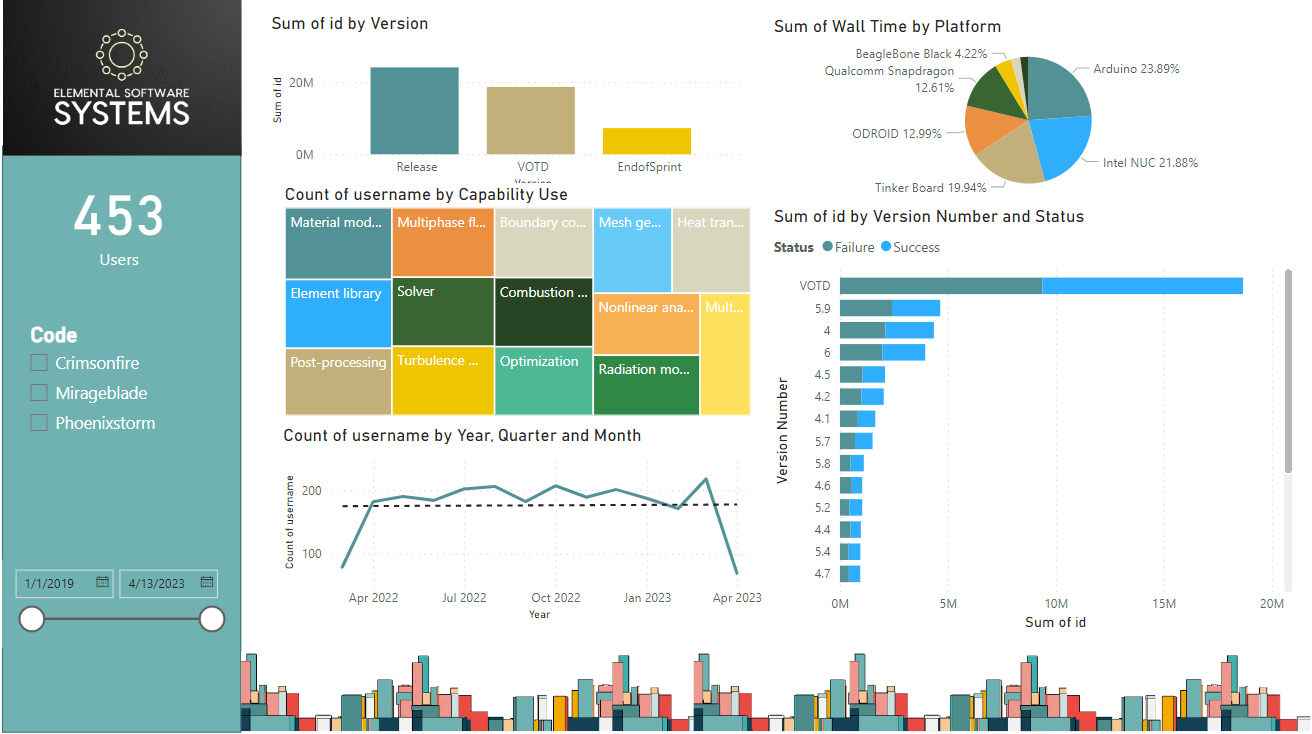

Layout of this report page (visuals, bound fields, positions):
{"tool":"powerbi","page":{"name":"Page 1","canvas":[1280,720],"ordinal":0},"visuals":[{"type":"shape","box":[5.8,146.6,232,569],"z":0},{"type":"image","box":[19.8,633,880.9,87.3],"z":1000},{"type":"image","box":[1.2,0,242,161.7],"z":2000},{"type":"image","box":[670.3,633.3,458.8,86.7],"z":3000},{"type":"image","box":[821.7,633.3,458.8,86.7],"z":4000},{"type":"columnChart","fields":{"Category":["ESS Usage.Version"],"Y":["Sum(ESS Usage.id)"]},"box":[261.2,17.3,466.9,176.8],"z":5000},{"type":"card","fields":{"Values":["Count(ESS Usage.username)"]},"box":[11.6,161.8,215,113.3],"z":6000},{"type":"slicer","fields":{"Values":["ESS Usage.Code"]},"box":[19.6,313.2,198.8,142.2],"z":7000},{"type":"slicer","fields":{"Values":["ESS Usage.Date"]},"box":[5.8,547.8,224.2,85.5],"z":8000},{"type":"treemap","fields":{"Values":["CountNonNull(ESS Usage.username)"],"Group":["ESS Usage.Capability Use"]},"box":[274.3,182.9,461.5,230.3],"z":8002},{"type":"pieChart","fields":{"Category":["ESS Usage.Platform"],"Y":["Sum(ESS Usage.Wall Time)"]},"box":[748.9,19.6,503.9,184.9],"z":8003},{"type":"lineChart","fields":{"Y":["CountNonNull(ESS Usage.username)"],"Category":["ESS Usage.Date.Variation.Date Hierarchy.Year","ESS Usage.Date.Variation.Date Hierarchy.Quarter","ESS Usage.Date.Variation.Date Hierarchy.Month","ESS Usage.Date.Variation.Date Hierarchy.Day"]},"box":[273.9,417.2,475,195.3],"z":8004},{"type":"barChart","fields":{"Category":["ESS Usage.Version Number"],"Y":["Sum(ESS Usage.id)"],"Series":["ESS Usage.Status"]},"box":[748.9,204.6,513.1,417.2],"z":8005}]}

Visuals, with their boxes in screenshot pixels (x1, y1, x2, y2), scaled from the page's 1280x720 canvas onto the 1312x734 screenshot:
shape: 6,149,244,730
image: 20,645,923,733
image: 1,0,249,165
image: 687,646,1157,733
image: 842,646,1311,733
columnChart - ESS Usage.Version x Sum(ESS Usage.id): 268,18,746,198
card - Count(ESS Usage.username): 12,165,232,280
slicer - ESS Usage.Code: 20,319,224,464
slicer - ESS Usage.Date: 6,558,236,646
treemap - CountNonNull(ESS Usage.username) x ESS Usage.Capability Use: 281,186,754,421
pieChart - ESS Usage.Platform x Sum(ESS Usage.Wall Time): 768,20,1284,208
lineChart - CountNonNull(ESS Usage.username) x ESS Usage.Date.Variation.Date Hierarchy.Year: 281,425,768,624
barChart - ESS Usage.Version Number x Sum(ESS Usage.id): 768,209,1294,634
